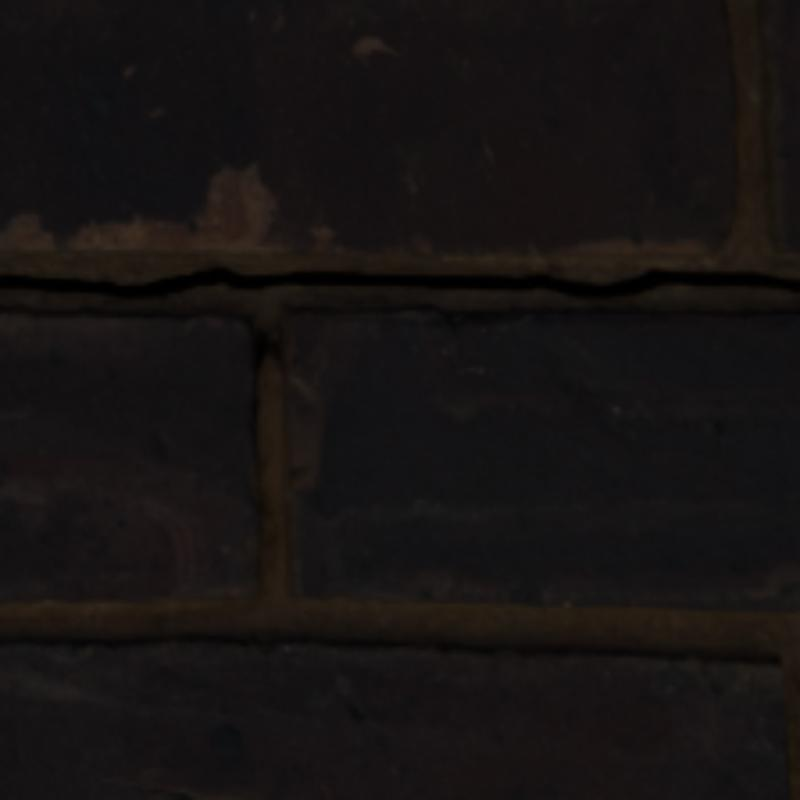pothole: (0, 268, 796, 296)
